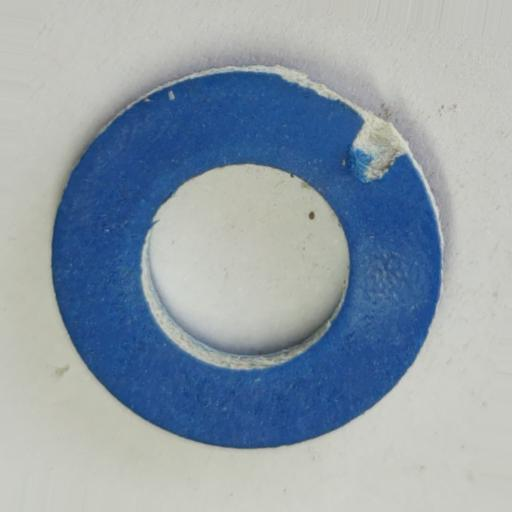defect: (346, 118, 410, 186)
